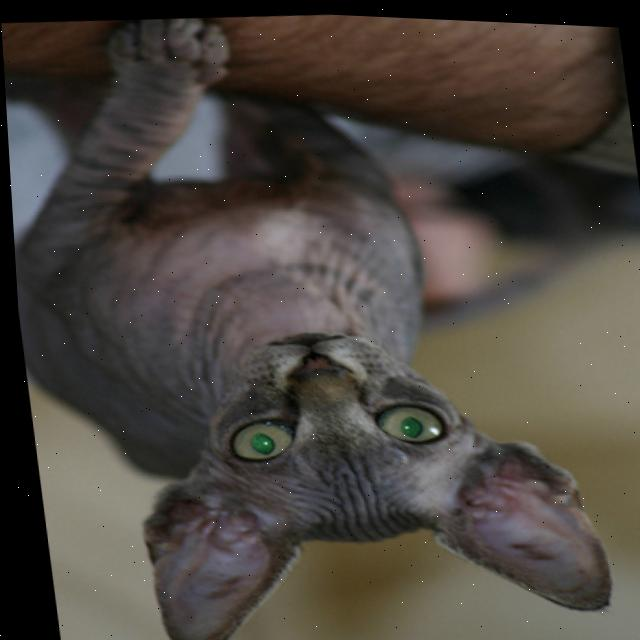Sphynx: (0, 0, 627, 640)
